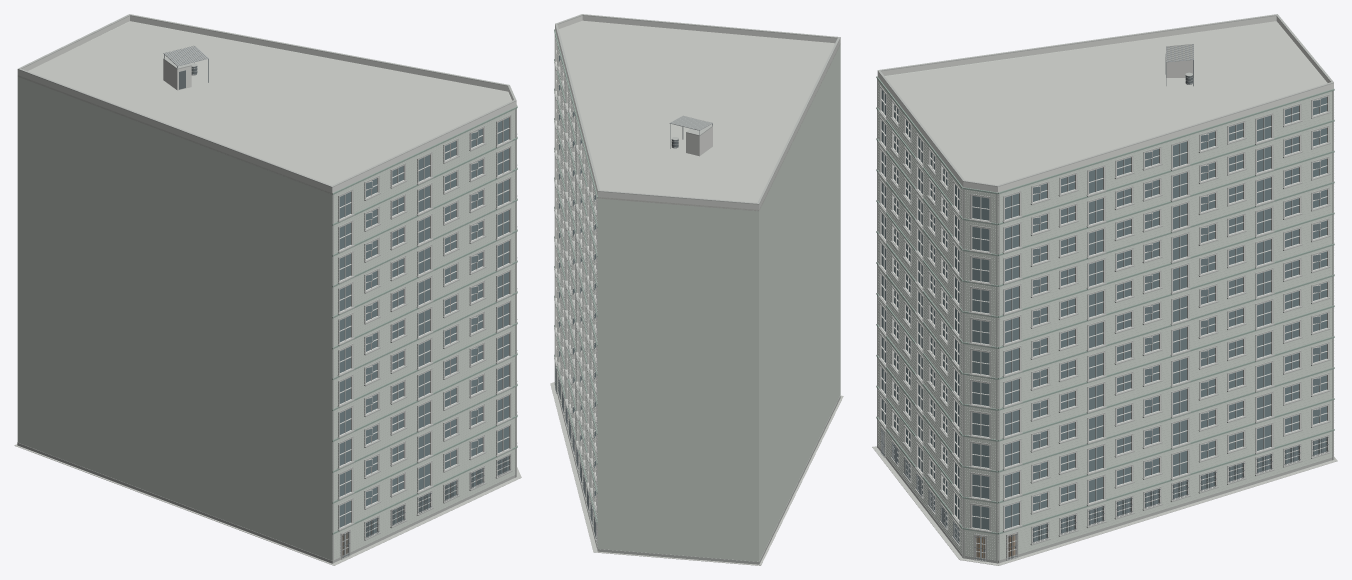
The model's file is lot_1134979.glb.
3 renders of one model, left to right at view 1: azimuth 30°, elevation 25°; view 2: azimuth 150°, elevation 25°; view 3: azimuth 270°, elevation 25°, orthographic. The views are drawn at different scales.
Parts seen in each view (by area): view 1: wall_12, roof_slab_11, wall_13, cladding_joint_2, balcony_window_panel_4, window_panel_4, opening_surround_2, parapet_0, floor_band_1, window_jamb_3, window_sill_2, window_frame_3 (+9 smaller); view 2: wall_16, roof_slab_11, wall_12, opening_surround_2, cladding_joint_2, window_jamb_3, parapet_0, window_sill_2, floor_band_1, wall_15, parapet_cap_2, mullion_3 (+10 smaller); view 3: wall_15, roof_slab_11, cladding_joint_2, balcony_window_panel_4, window_panel_4, opening_surround_2, wall_13, floor_band_1, window_jamb_3, window_sill_2, window_frame_3, mullion_3 (+12 smaller).
Part boxes in pixels (box(x1,y1,x2,y2)): wall_12: box(17, 77, 332, 560); roof_slab_11: box(17, 21, 512, 194); wall_13: box(332, 109, 515, 560); cladding_joint_2: box(334, 110, 515, 557); balcony_window_panel_4: box(339, 117, 508, 527); window_panel_4: box(366, 128, 508, 536); opening_surround_2: box(338, 115, 511, 559); parapet_0: box(17, 16, 516, 193); floor_band_1: box(332, 105, 517, 534); window_jamb_3: box(339, 116, 510, 558); window_sill_2: box(337, 134, 517, 540); window_frame_3: box(339, 116, 509, 558); wall_16: box(598, 197, 758, 561); roof_slab_11: box(559, 20, 840, 211); wall_12: box(759, 44, 840, 561); opening_surround_2: box(555, 37, 597, 539); cladding_joint_2: box(555, 35, 597, 544); window_jamb_3: box(555, 40, 595, 520); parapet_0: box(555, 15, 840, 209); window_sill_2: box(554, 61, 597, 541); floor_band_1: box(554, 29, 597, 523); wall_15: box(557, 48, 597, 545); parapet_cap_2: box(555, 14, 840, 204); mullion_3: box(557, 47, 596, 534); wall_15: box(998, 91, 1332, 560); roof_slab_11: box(885, 21, 1327, 185); cladding_joint_2: box(878, 82, 1332, 557); balcony_window_panel_4: box(881, 90, 1270, 529); window_panel_4: box(894, 97, 1326, 541); opening_surround_2: box(879, 85, 1329, 561); wall_13: box(878, 80, 963, 554); floor_band_1: box(876, 76, 1334, 534); window_jamb_3: box(880, 87, 1328, 560); window_sill_2: box(878, 110, 1330, 546); window_frame_3: box(880, 89, 1327, 560); mullion_3: box(883, 92, 1320, 557).
Size of the model in its own units: 34.16 by 36.08 by 38.21.
